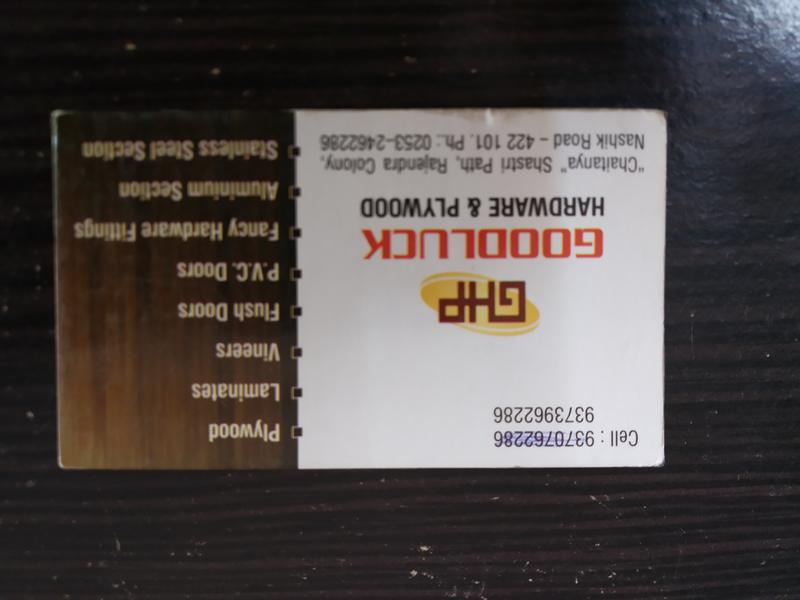card: (52, 109, 670, 472)
